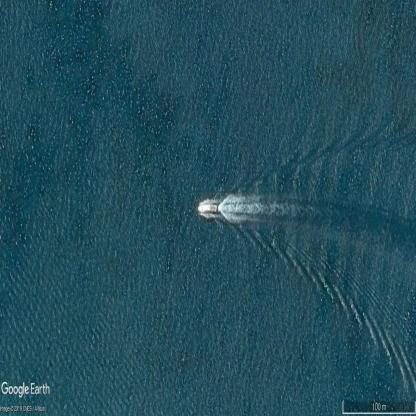ship: (198, 204, 217, 213)
